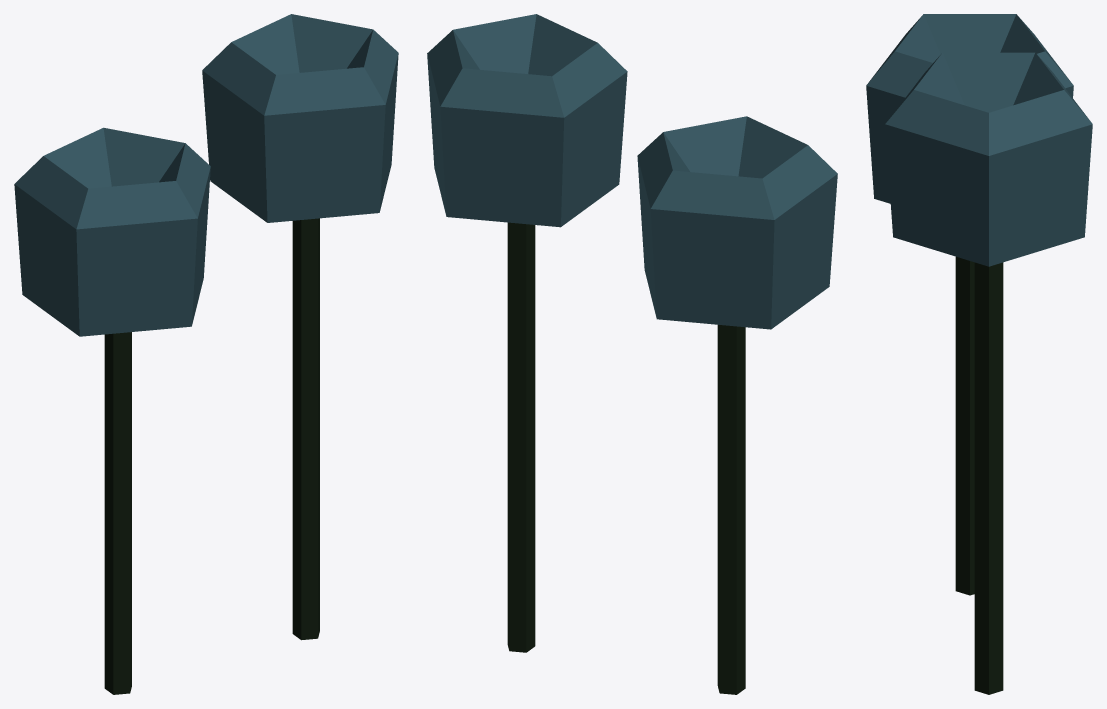
Rendered from Flower_Bluebell_Cluster_01.fbx.
3 renders of one model, left to right at view 1: azimuth 30°, elevation 25°; view 2: azimuth 150°, elevation 25°; view 3: azimuth 270°, elevation 25°, orthographic. The views are drawn at different scales.
Parts seen in each view (by area): view 1: Flower_Bluebell_Cluster_01_Mesh; view 2: Flower_Bluebell_Cluster_01_Mesh; view 3: Flower_Bluebell_Cluster_01_Mesh.
Boxes of the visible parts, x1,y1,x2,y2 form: Flower_Bluebell_Cluster_01_Mesh: [14, 14, 398, 694]; Flower_Bluebell_Cluster_01_Mesh: [427, 14, 837, 694]; Flower_Bluebell_Cluster_01_Mesh: [866, 14, 1092, 694].
Size of the model in its own units: 0.2576 by 0.4 by 0.1349.
Materials: 1 (1 with a texture image).
